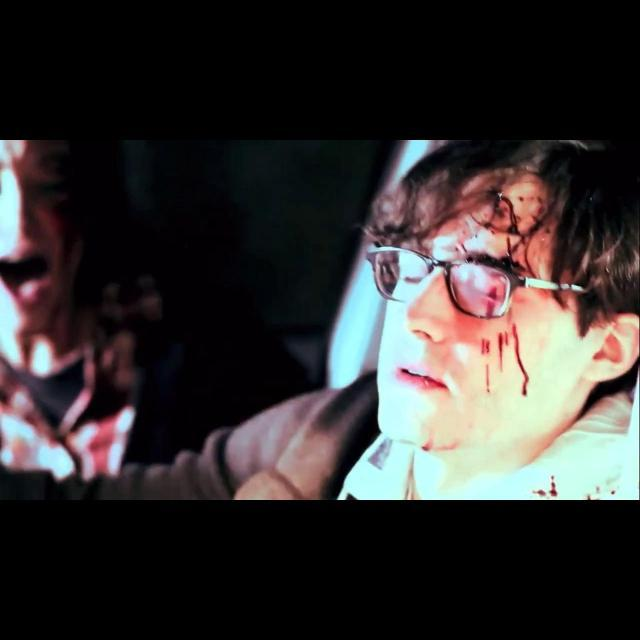blood: (472, 172, 556, 280), (17, 237, 80, 368), (513, 323, 530, 396), (483, 273, 504, 316), (533, 476, 559, 499), (498, 331, 510, 372), (436, 440, 459, 450), (482, 338, 492, 356), (422, 439, 434, 451), (586, 494, 602, 500), (487, 364, 490, 392), (597, 486, 602, 494), (612, 489, 617, 497), (522, 278, 538, 280)
